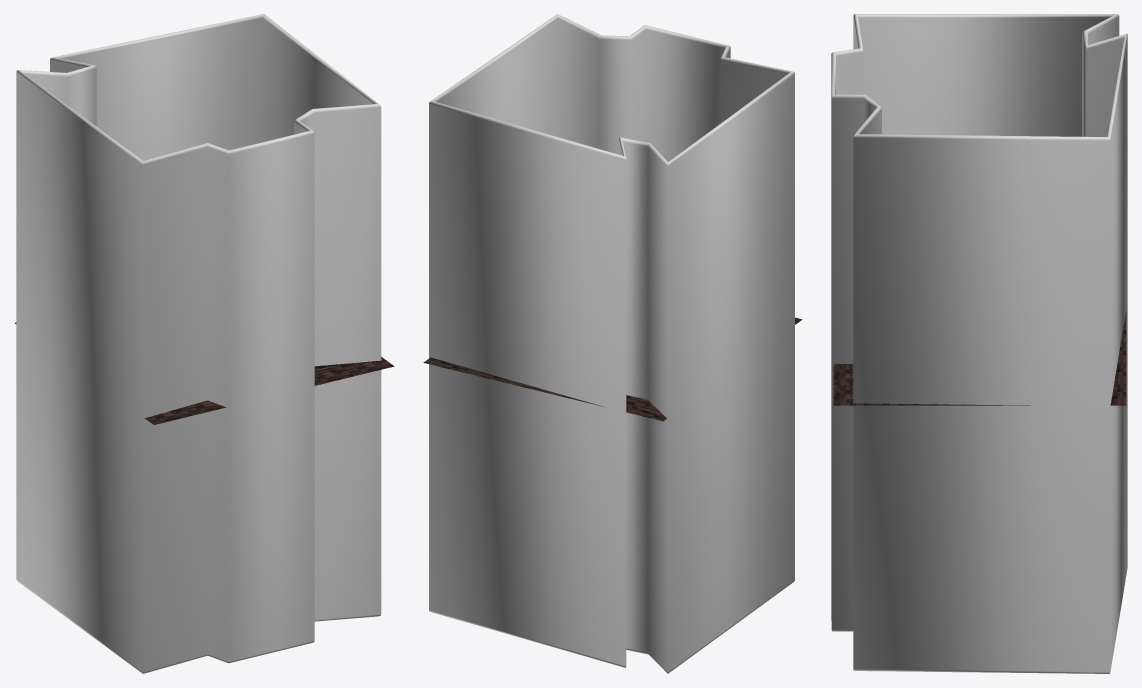
3 renders of one model, left to right at view 1: azimuth 30°, elevation 25°; view 2: azimuth 150°, elevation 25°; view 3: azimuth 270°, elevation 25°, orthographic. The views are drawn at different scales.
Visible parts, largest first — view 1: wall_0, Floor; view 2: wall_0, Floor; view 3: wall_0, Floor.
Part boxes in pixels (<box>): wall_0: <box>16,14,381,673</box>; Floor: <box>15,322,394,424</box>; wall_0: <box>429,14,794,673</box>; Floor: <box>423,317,802,421</box>; wall_0: <box>831,14,1127,673</box>; Floor: <box>833,311,1126,405</box>.
Size of the model in its own units: 3.23 by 6.47 by 3.24.
2 materials, 1 textured.
